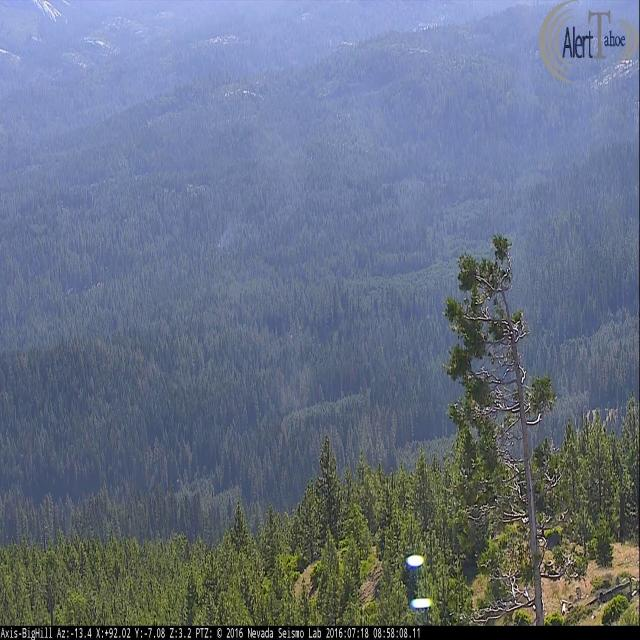smoke: (212, 208, 247, 250)
